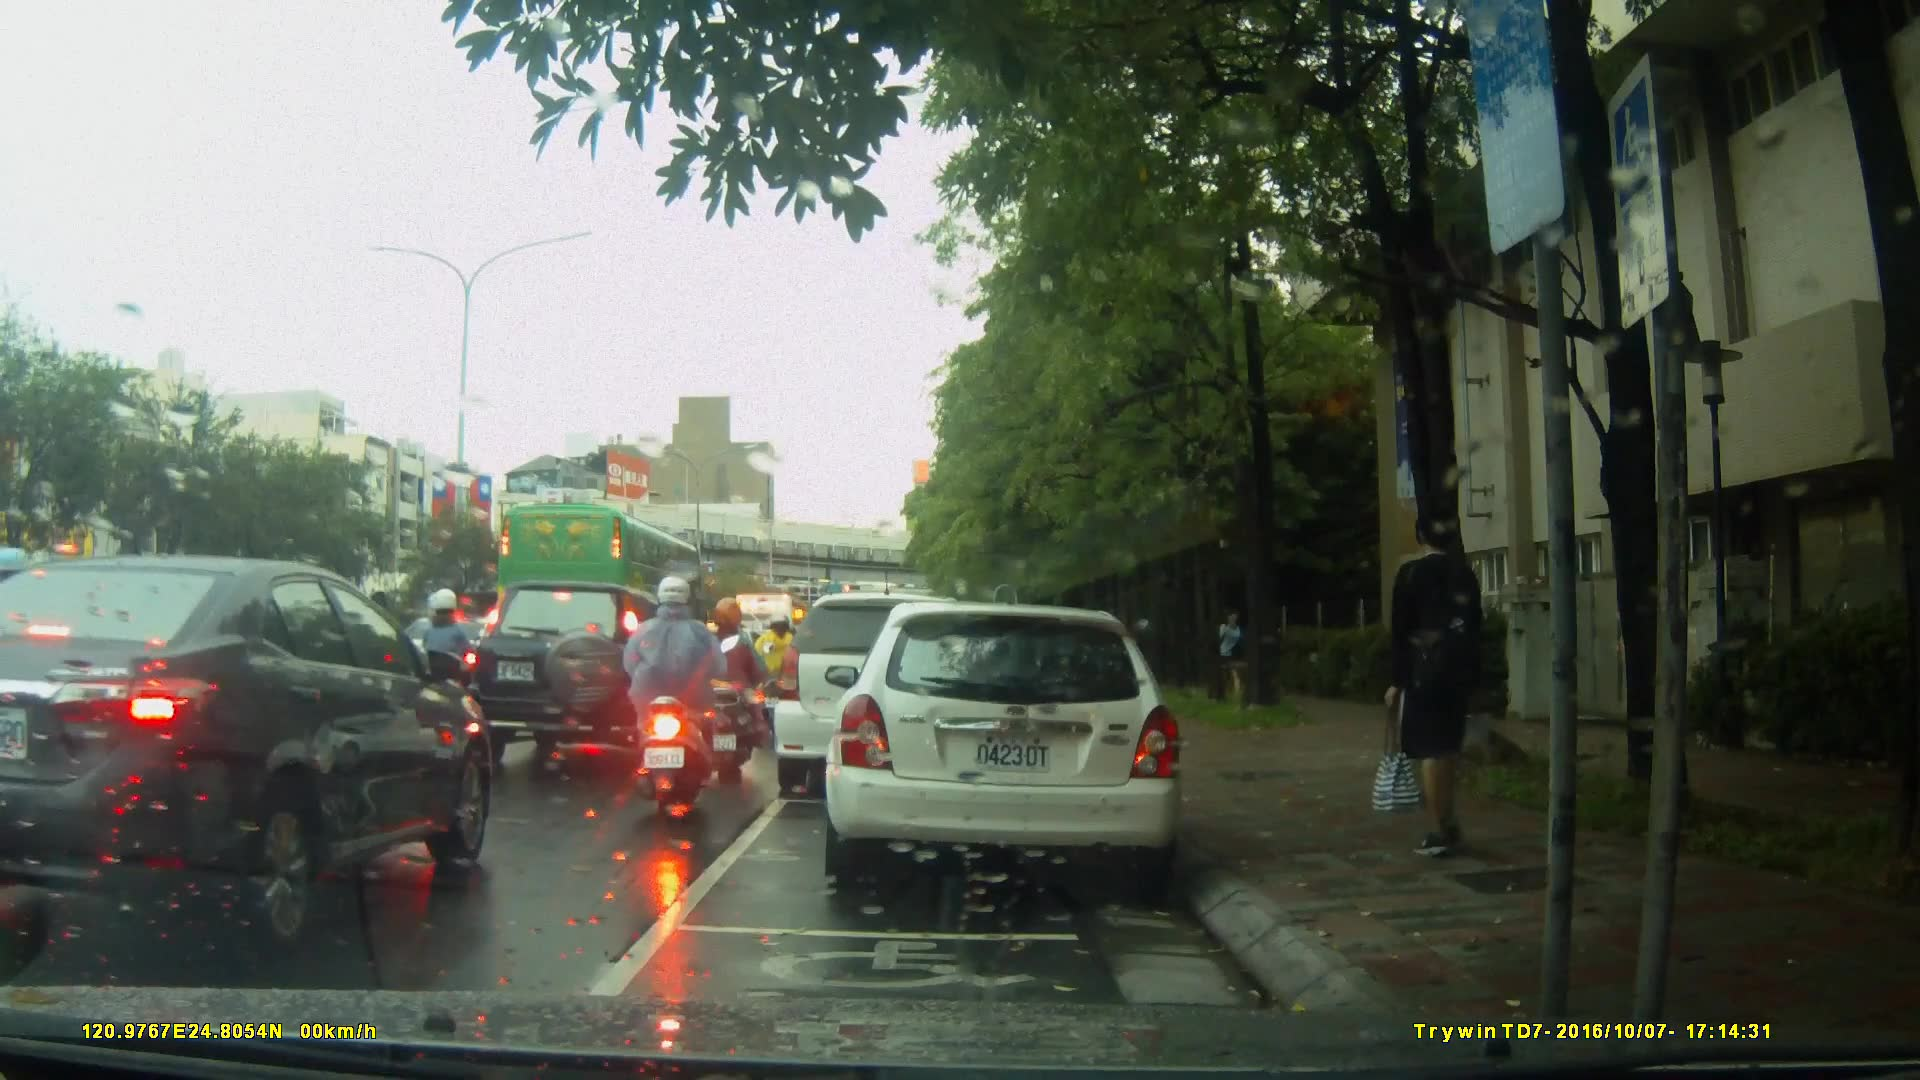pedestrian: (1366, 507, 1511, 862)
rider: (617, 578, 738, 816), (407, 585, 491, 738), (697, 601, 765, 783), (752, 611, 807, 723)
vehicle: (1, 554, 501, 968), (831, 592, 1196, 897), (770, 592, 999, 799), (469, 578, 691, 770), (494, 502, 706, 656)
